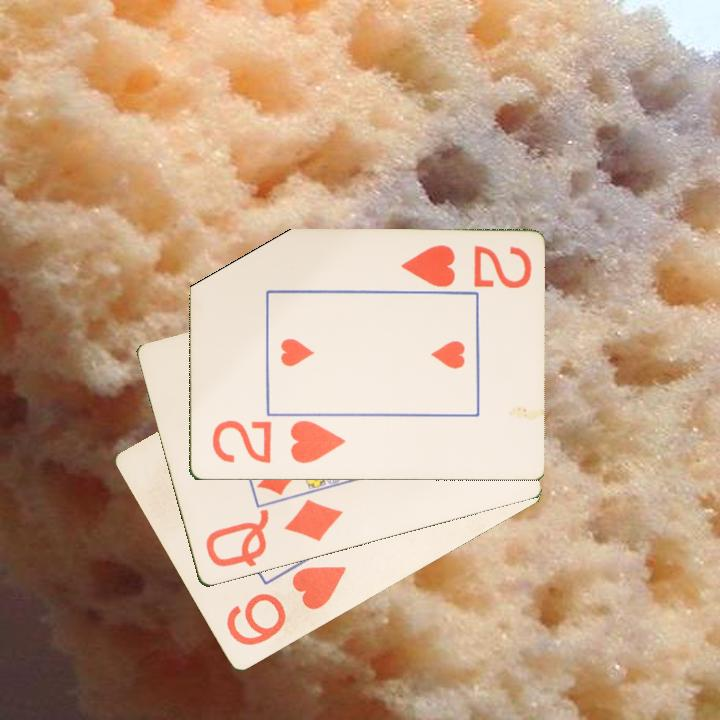2h: (209, 418, 348, 467), (397, 242, 534, 291)
6h: (222, 562, 350, 650)
Qd: (201, 496, 346, 571)
